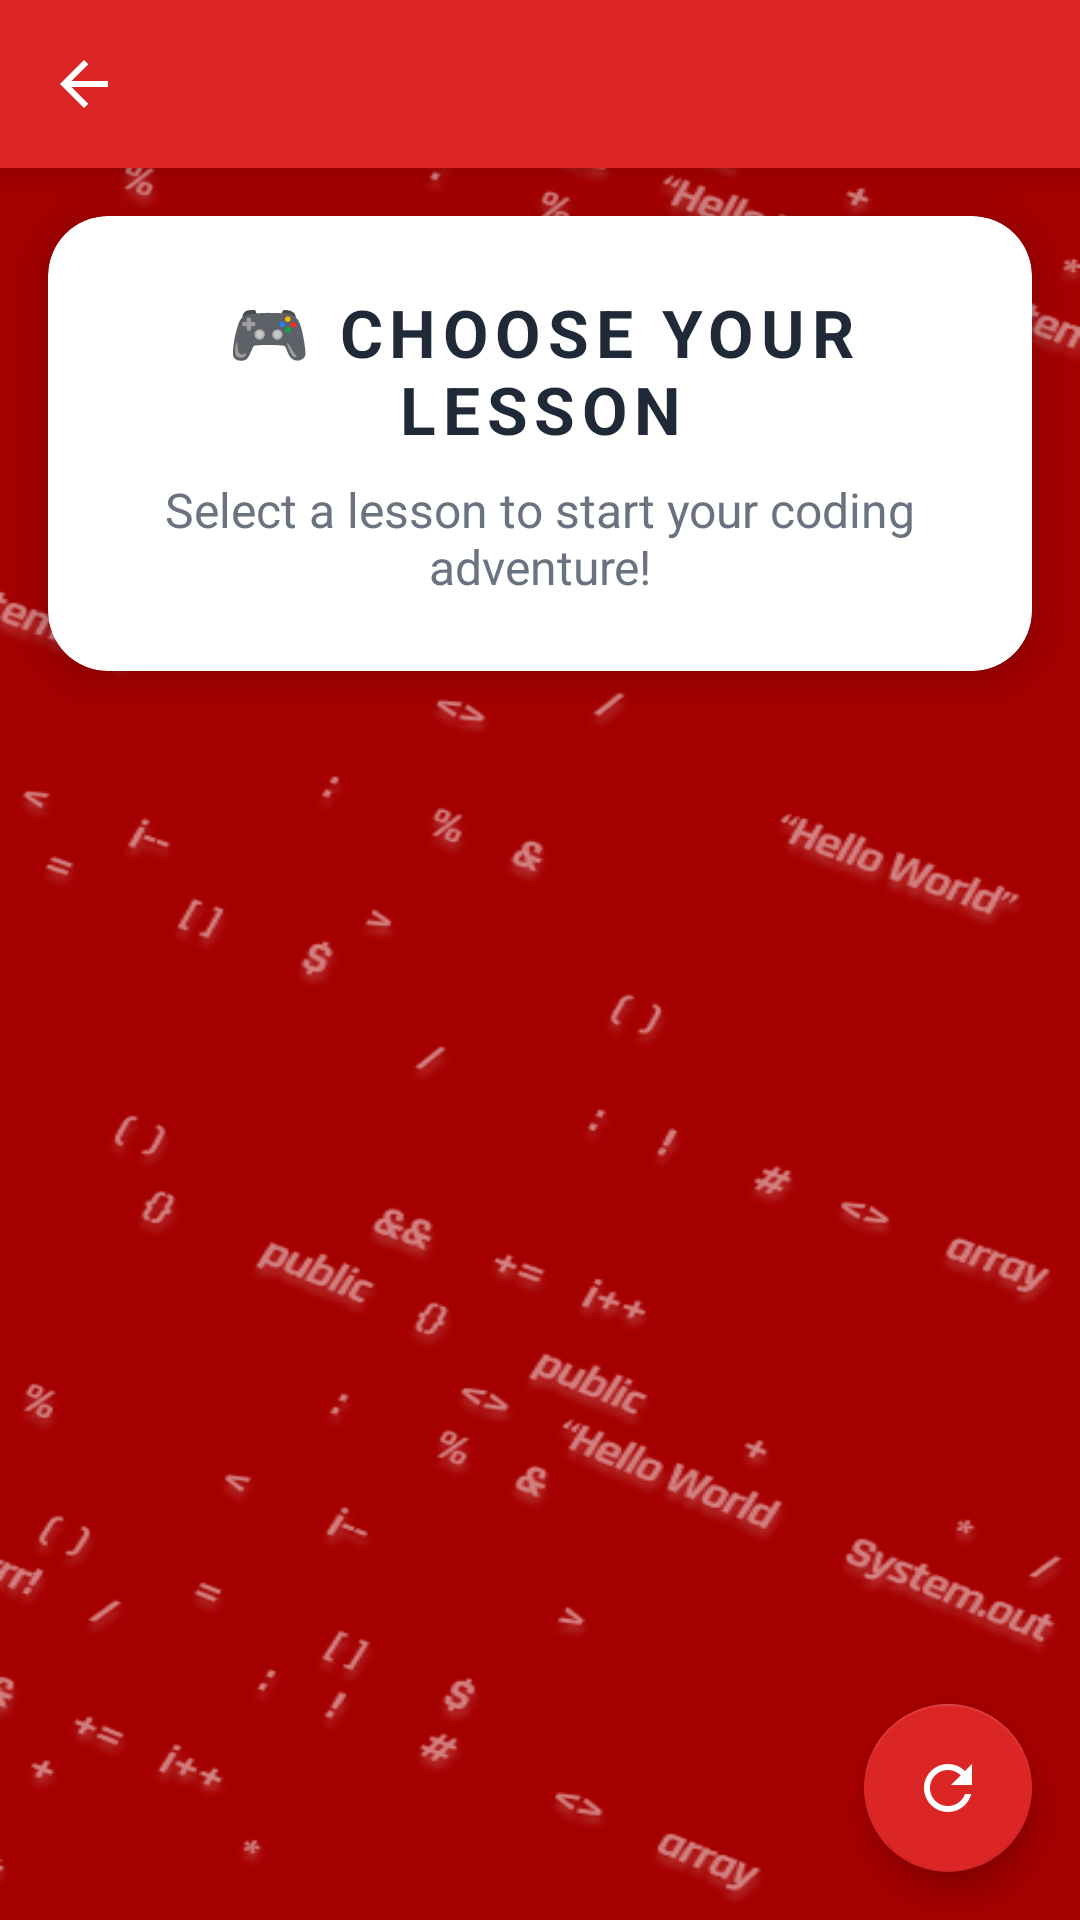

Icons on this 1080w x 1920h Android screen, each with its box as [x1, y1, x2, y2]:
Refresh lessons: [864, 1704, 1032, 1872]
